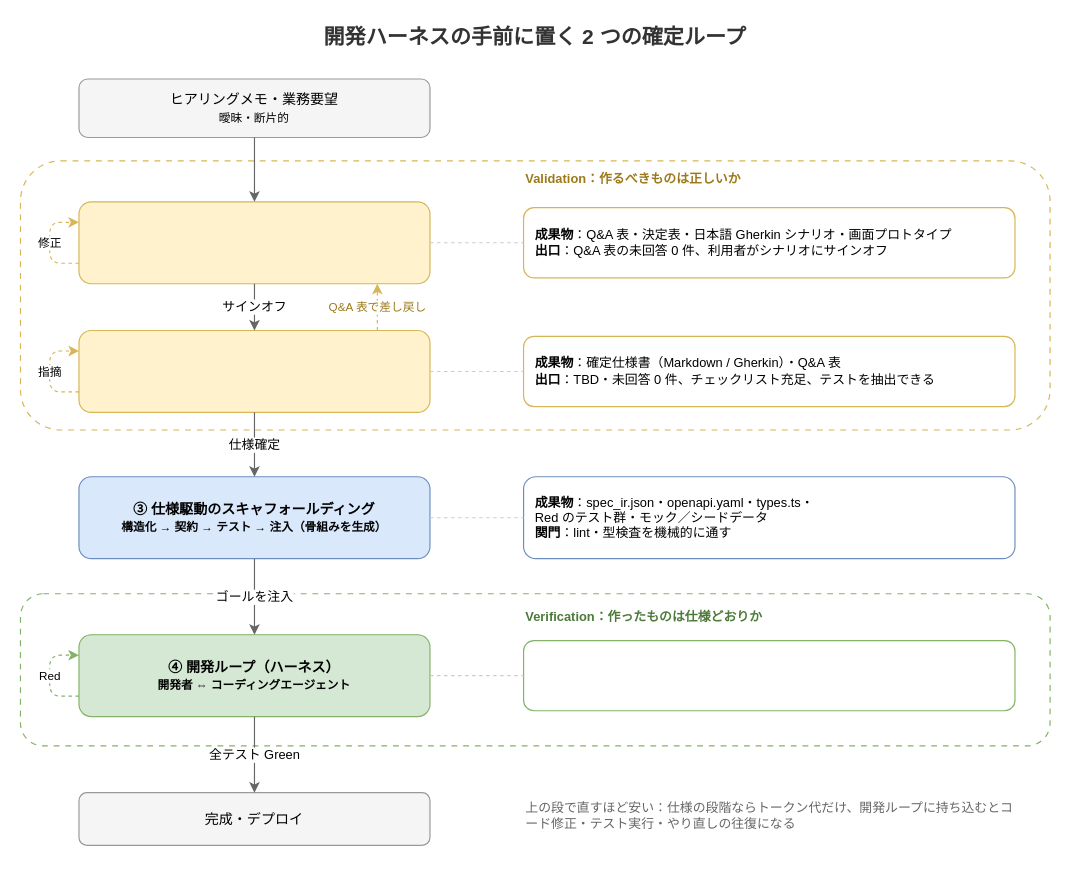
The diagram is 1071 pixels wide and 870 high, and some of its shapes have lost their labels. The box of each missing label's shape, as (x1, y1, x2, y2) in pixels:
① 要求確定ループ 利用者 ⇔ 開発者（構造化 → 意地悪な質問 → 利用者確認）: (78, 201, 430, 284)
② 仕様レビューループ Planner・Red Team・Domain Checker Formal Checker（Z3・TLA+ で矛盾を検出）: (78, 329, 430, 412)
ゴール ：生成テストを全部 Green にする 制約 ：テストは読み取り専用、触れるのは実装だけ: (522, 639, 1015, 711)
